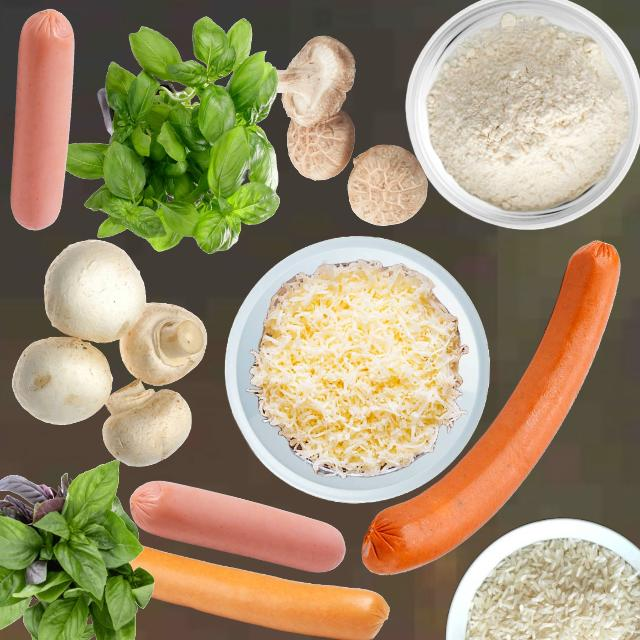Flour: (425, 11, 629, 211)
